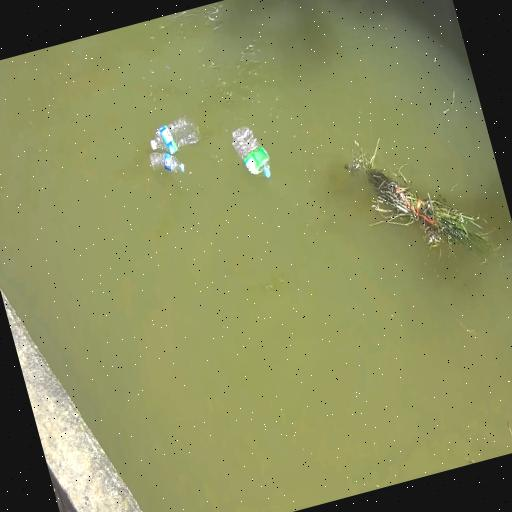plastic: (232, 127, 269, 177), (150, 117, 198, 154), (149, 153, 184, 173)
twig: (345, 138, 489, 250)
